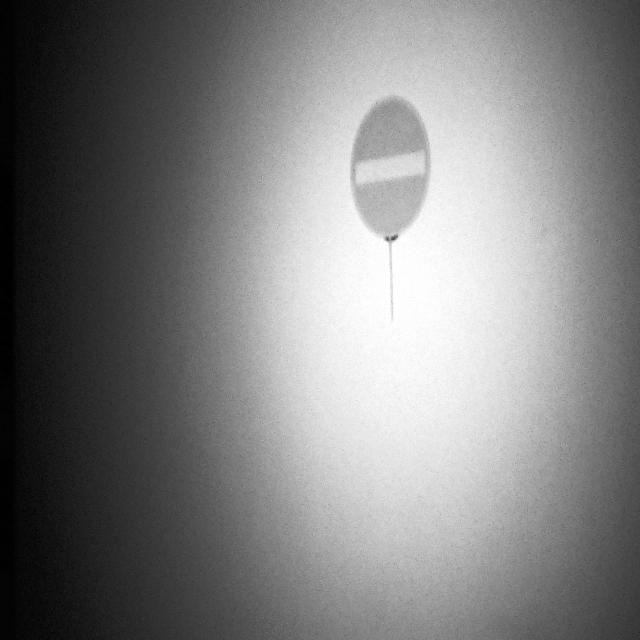Sign: (349, 92, 433, 240)
